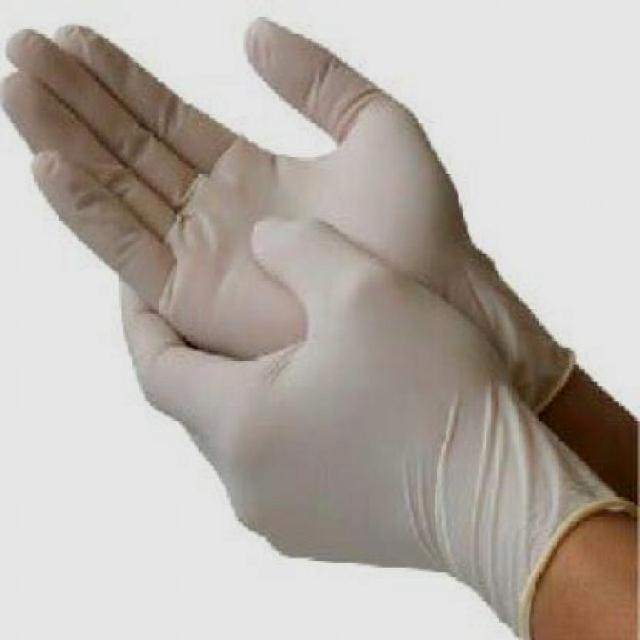glove: (2, 13, 601, 584)
